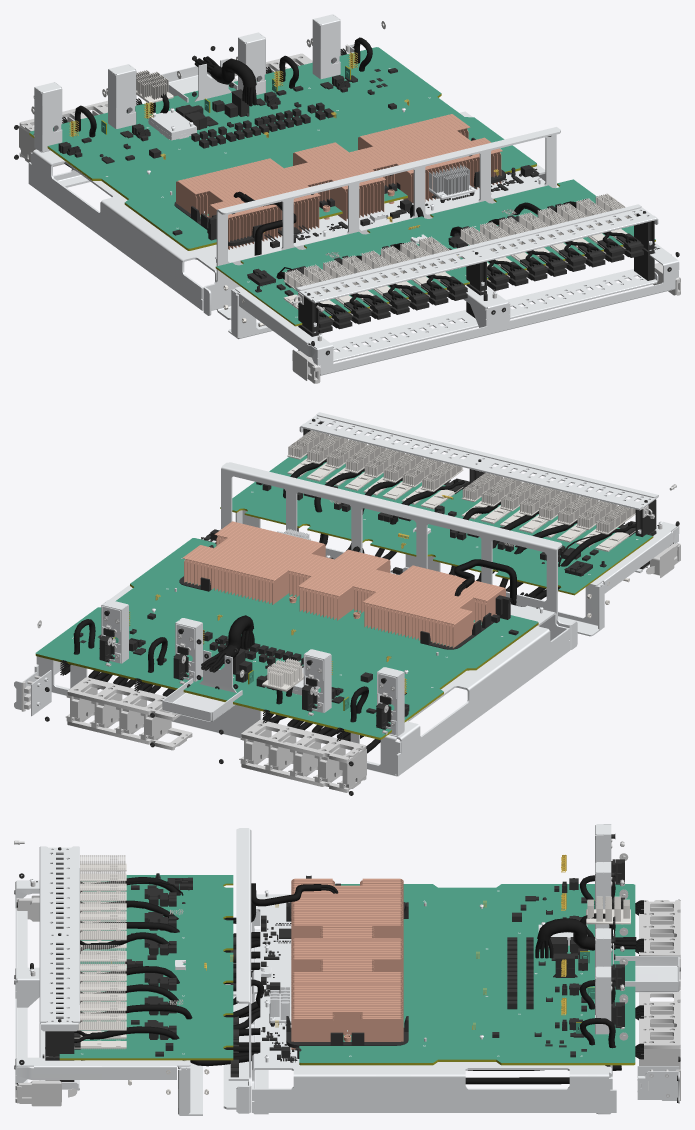
The model's file is sidecar-int-0.glb.
3 renders of one model, top to bottom at view 1: azimuth 30°, elevation 25°; view 2: azimuth 150°, elevation 25°; view 3: azimuth 270°, elevation 25°, orthographic. The views are drawn at different scales.
Visible parts, largest first — view 1: Plane.026, Plane.030, Cube.087, Cube.050, Cube.051, NurbsPath.002, Cube.084, NurbsPath.003, Cube.897, OXC230-0000008_PTH.001; view 2: Plane.030, Plane.026, Cube.050, Cube.051, Cube.084, Cube.087, NurbsPath.002, NurbsPath.003, Cube.897; view 3: Plane.030, Plane.026, Cube.050, Cube.087, Cube.051, NurbsPath.002, Cube.084, NurbsPath.003, Cube.897, OXC230-0000008_PTH.001.
Boxes of the visible parts, box(x1,y1,x2,y2) form: Plane.026: box(28, 14, 679, 375); Plane.030: box(29, 47, 655, 326); Cube.087: box(14, 46, 679, 355); Cube.050: box(176, 114, 502, 249); Cube.051: box(136, 70, 636, 326); NurbsPath.002: box(64, 56, 636, 321); Cube.084: box(19, 21, 680, 383); NurbsPath.003: box(62, 37, 423, 310); Cube.897: box(174, 137, 505, 245); OXC230-0000008_PTH.001: box(69, 52, 498, 255); Plane.030: box(35, 455, 653, 739); Plane.026: box(14, 412, 679, 776); Cube.050: box(182, 521, 505, 648); Cube.051: box(262, 430, 635, 691); Cube.084: box(21, 484, 680, 792); Cube.087: box(45, 418, 679, 795); NurbsPath.002: box(62, 459, 635, 753); NurbsPath.003: box(60, 536, 593, 741); Cube.897: box(179, 545, 494, 649); Plane.030: box(59, 875, 635, 1065); Plane.026: box(15, 824, 679, 1115); Cube.050: box(291, 878, 403, 1049); Cube.087: box(14, 834, 680, 1102); Cube.051: box(67, 855, 630, 1094); NurbsPath.002: box(58, 877, 636, 1084); Cube.084: box(14, 838, 680, 1106); NurbsPath.003: box(125, 875, 643, 1059); Cube.897: box(286, 902, 408, 1048); OXC230-0000008_PTH.001: box(111, 854, 566, 1029).
Bounding box in the file's own units: 17589 × 4679 × 26214.
